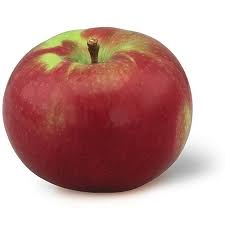apple: (8, 28, 193, 203)
